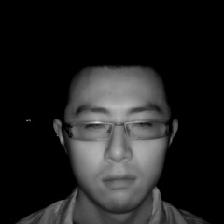normal: (43, 50, 195, 214)
